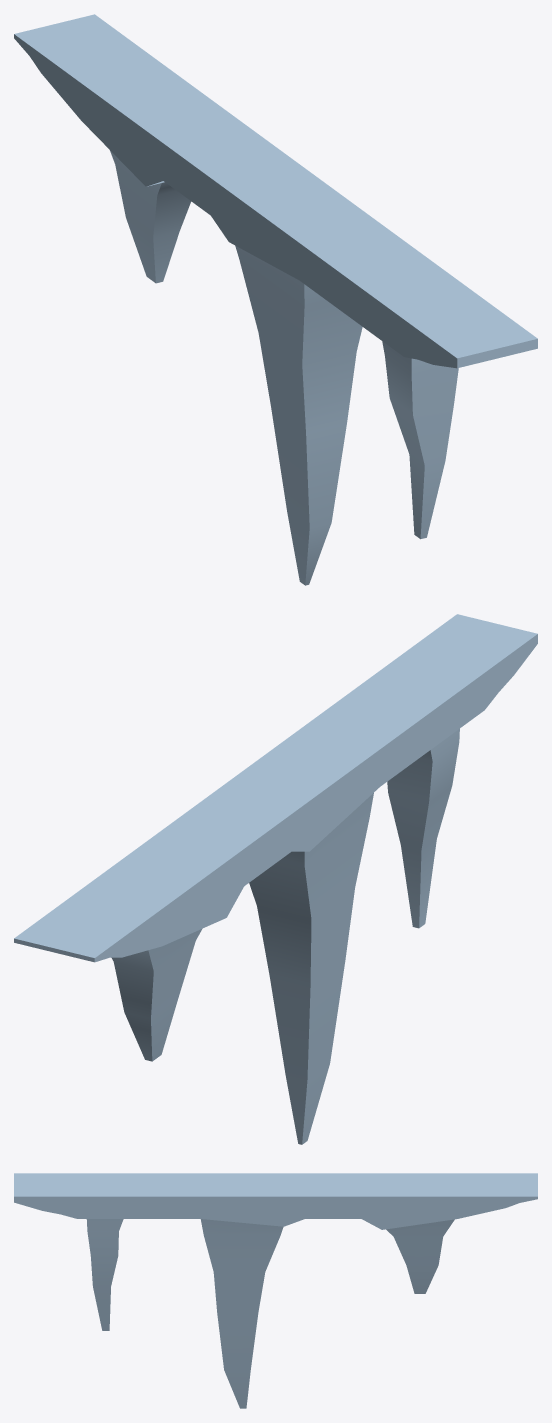
The model's file is icicle01.fbx.
3 renders of one model, top to bottom at view 1: azimuth 30°, elevation 25°; view 2: azimuth 150°, elevation 25°; view 3: azimuth 270°, elevation 25°, orthographic. The views are drawn at different scales.
Parts seen in each view (by area): view 1: icicle; view 2: icicle; view 3: icicle.
Part boxes in pixels (x1,y1,x2,y2): icicle: (14, 14, 537, 585); icicle: (14, 614, 537, 1144); icicle: (14, 1173, 537, 1408).
Size of the model in its own units: 16.7 by 74.38 by 159.
